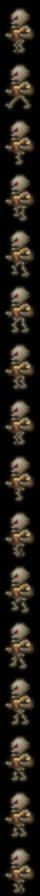zombie: (1, 3, 38, 56), (2, 116, 38, 169), (2, 344, 38, 394), (5, 60, 38, 113), (4, 286, 38, 335), (4, 226, 36, 278), (4, 174, 37, 224)
